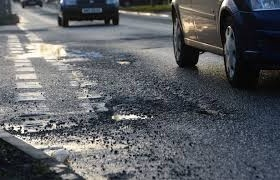pothole: (96, 93, 190, 122)
